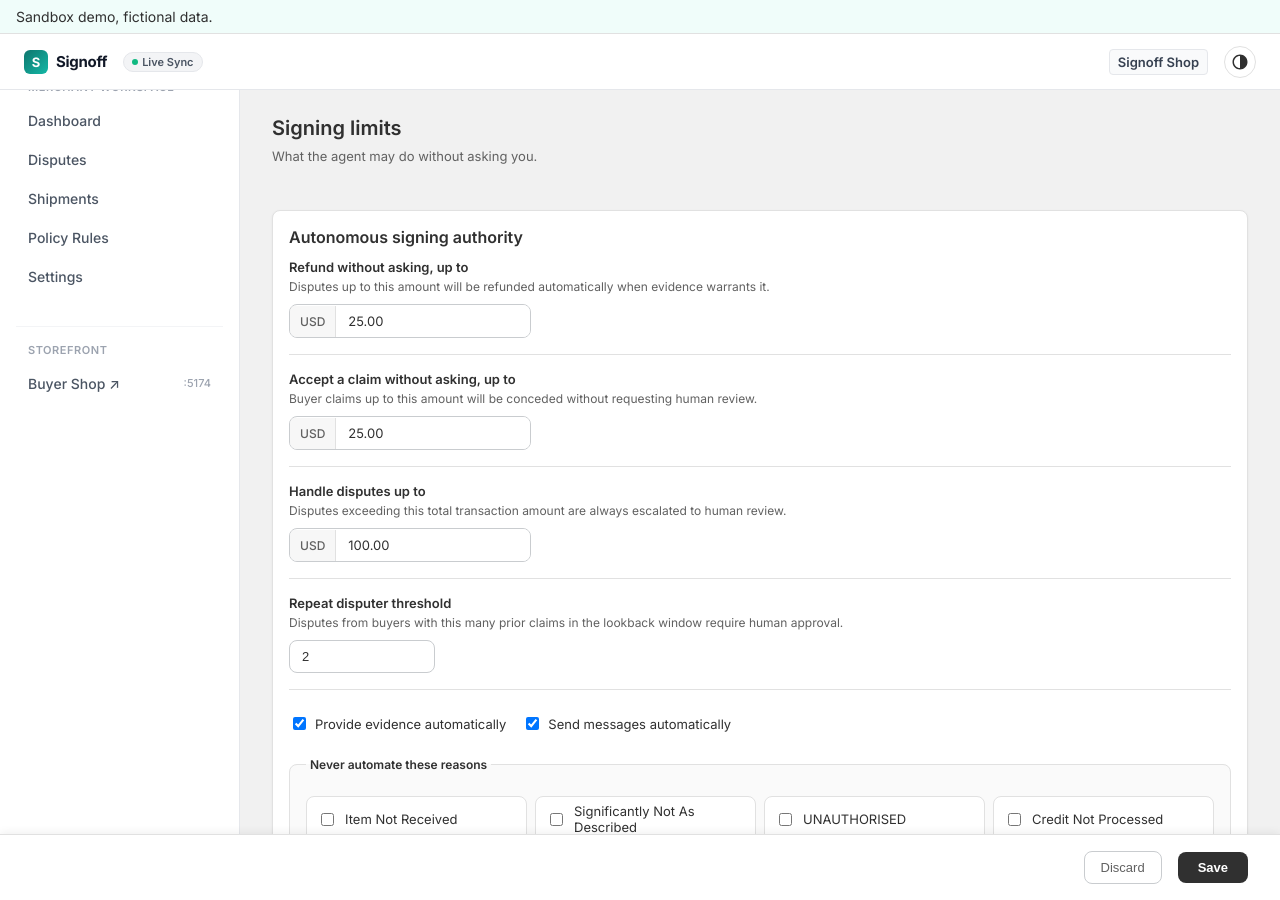
Test: Charter page (Step 27) › shows the newer version on a conflict instead of overwriting it
The width and height of the screenshot is (1280, 900).
Expected: the header with test id "charter-title" is shown, [272,116,537,164]
Step 1. Click the button with test id "charter-save-button" → (1213, 868), box [1178,852,1248,883]
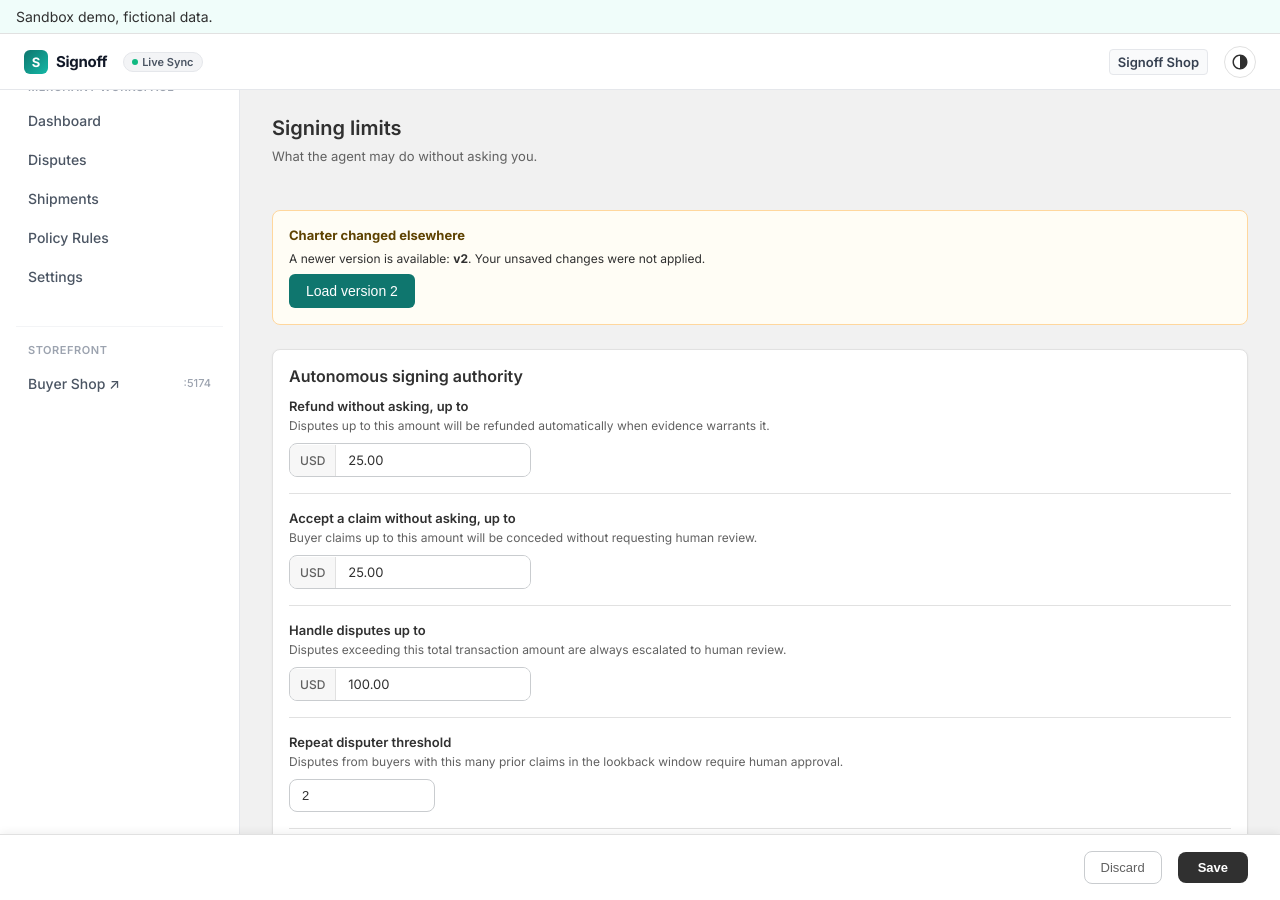
Result: the element with test id "charter-conflict" is shown at [272,210,1248,325]
Result: the text with test id "charter-conflict-version" reads "v2" at [453,251,468,266]
Step 2. Click the button with test id "charter-load-latest" → (352, 291), box [289,274,415,308]
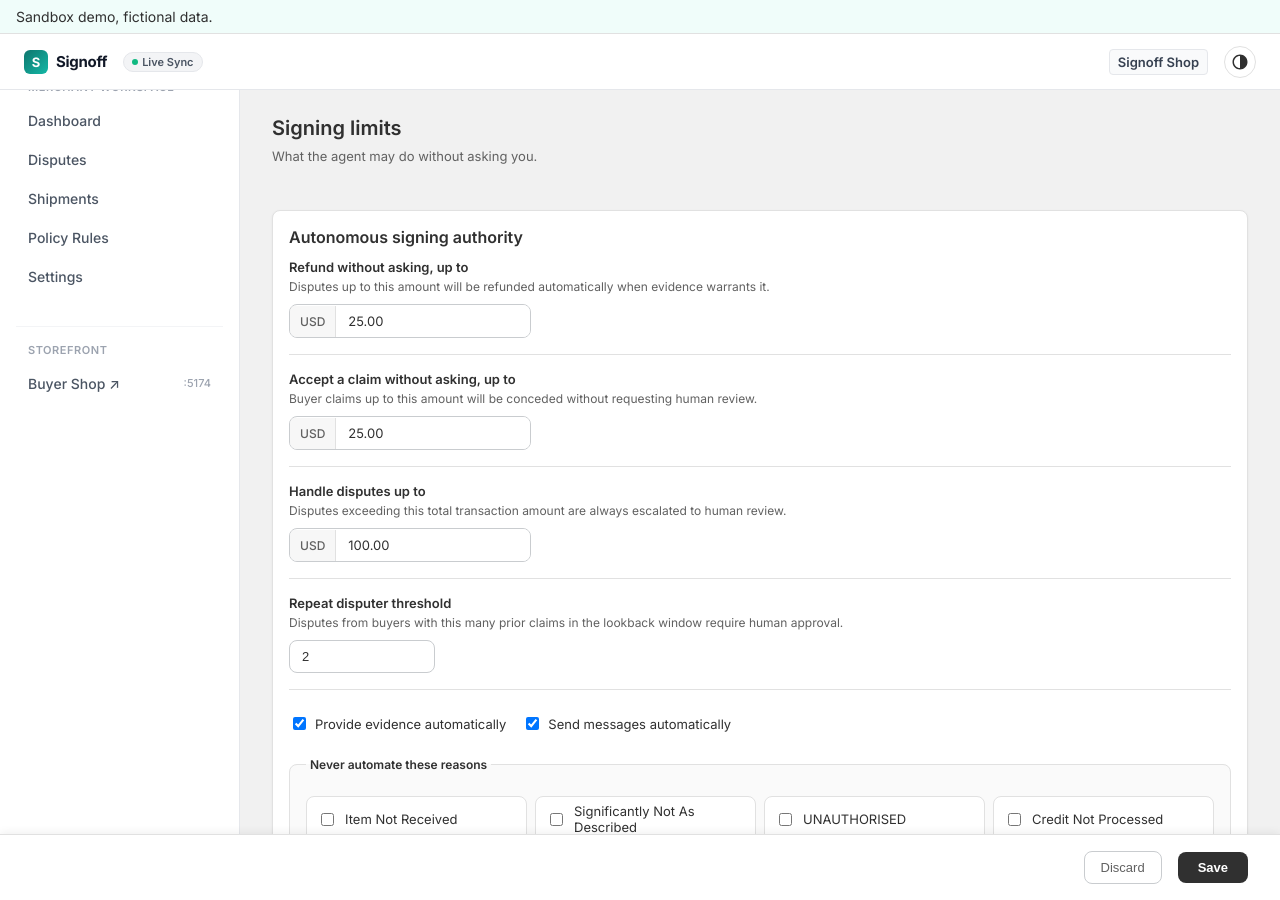
Result: the element with test id "charter-conflict" is gone
